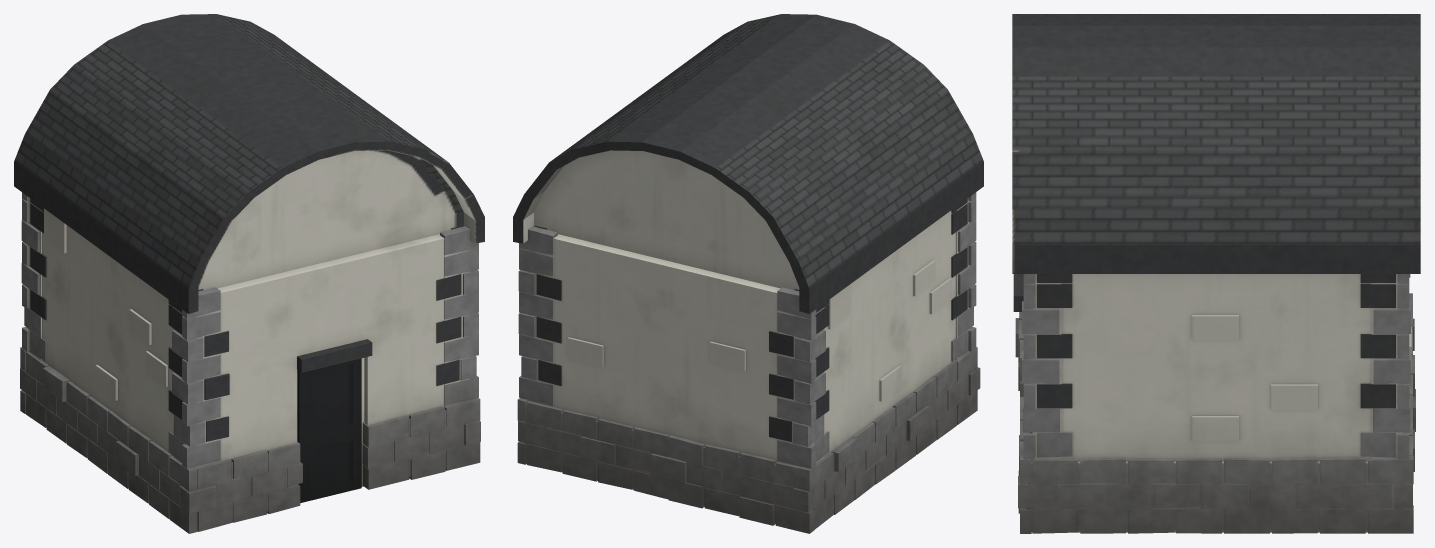
File: building_1Story_RoundRoof.glb
3 views of the same model, side by side, from view 1: azimuth 30°, elevation 25°; view 2: azimuth 150°, elevation 25°; view 3: azimuth 270°, elevation 25° (orthographic). The views are drawn at different scales.
Visible parts, largest first — view 1: 1Story_RoundRoof_high; view 2: 1Story_RoundRoof_high; view 3: 1Story_RoundRoof_high.
Boxes of the visible parts, x1=… form: 1Story_RoundRoof_high: x1=14, y1=14, x2=484, y2=533; 1Story_RoundRoof_high: x1=513, y1=14, x2=983, y2=533; 1Story_RoundRoof_high: x1=1012, y1=14, x2=1420, y2=533.
Size of the model in its own units: 2.09 by 2.38 by 2.13.
1 material, 1 textured.
